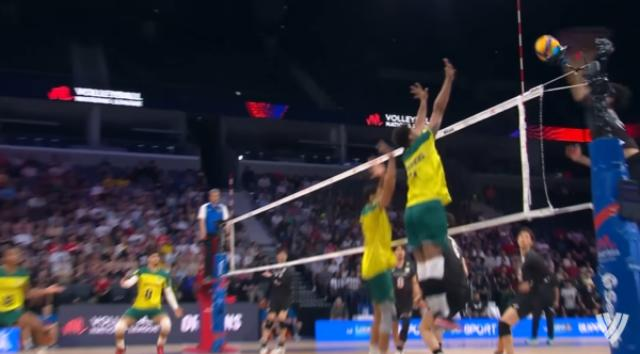Levantador: (387, 53, 477, 342)
bola: (529, 18, 565, 70)
